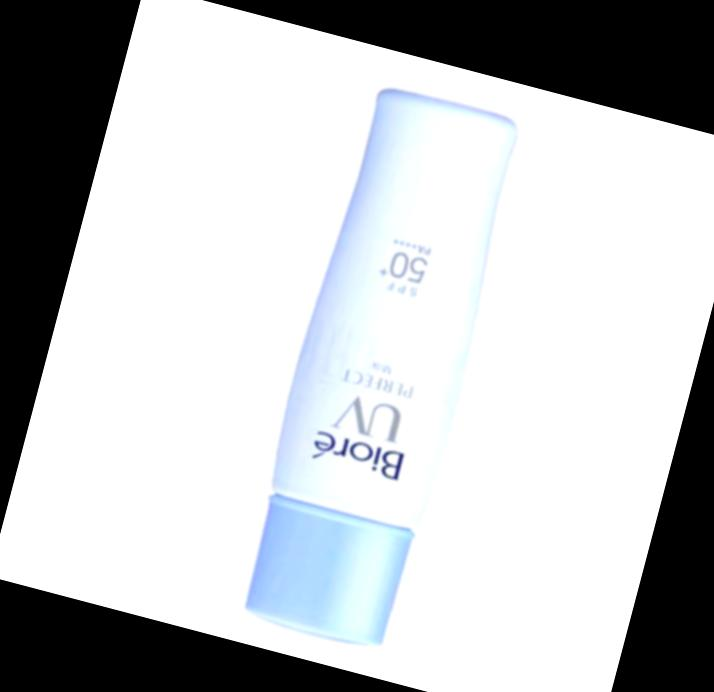cosmetic: (221, 80, 535, 655)
